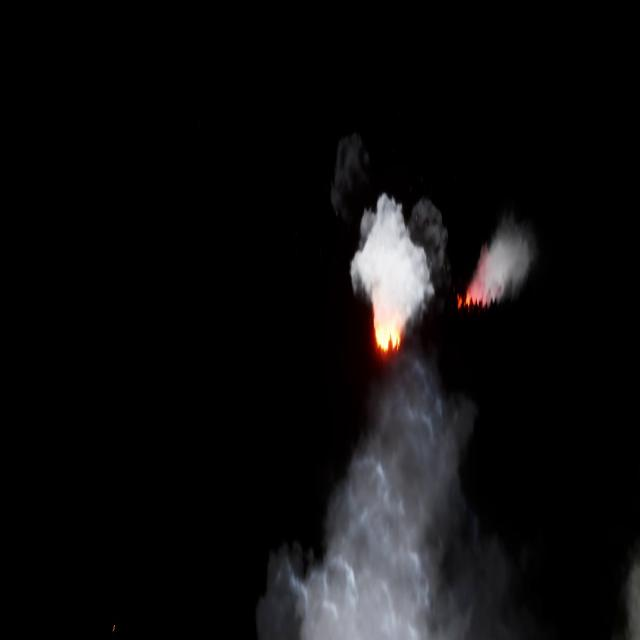fire: (457, 257, 491, 306), (372, 301, 402, 351)
smoke: (251, 368, 512, 639), (353, 184, 432, 316), (476, 222, 529, 303)
